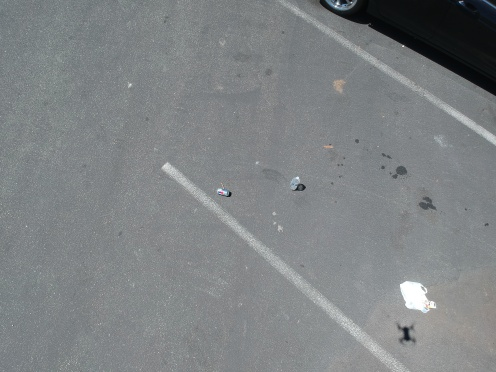bottle: (286, 174, 302, 194)
can: (211, 185, 234, 198)
plastic bag: (393, 274, 443, 315)
